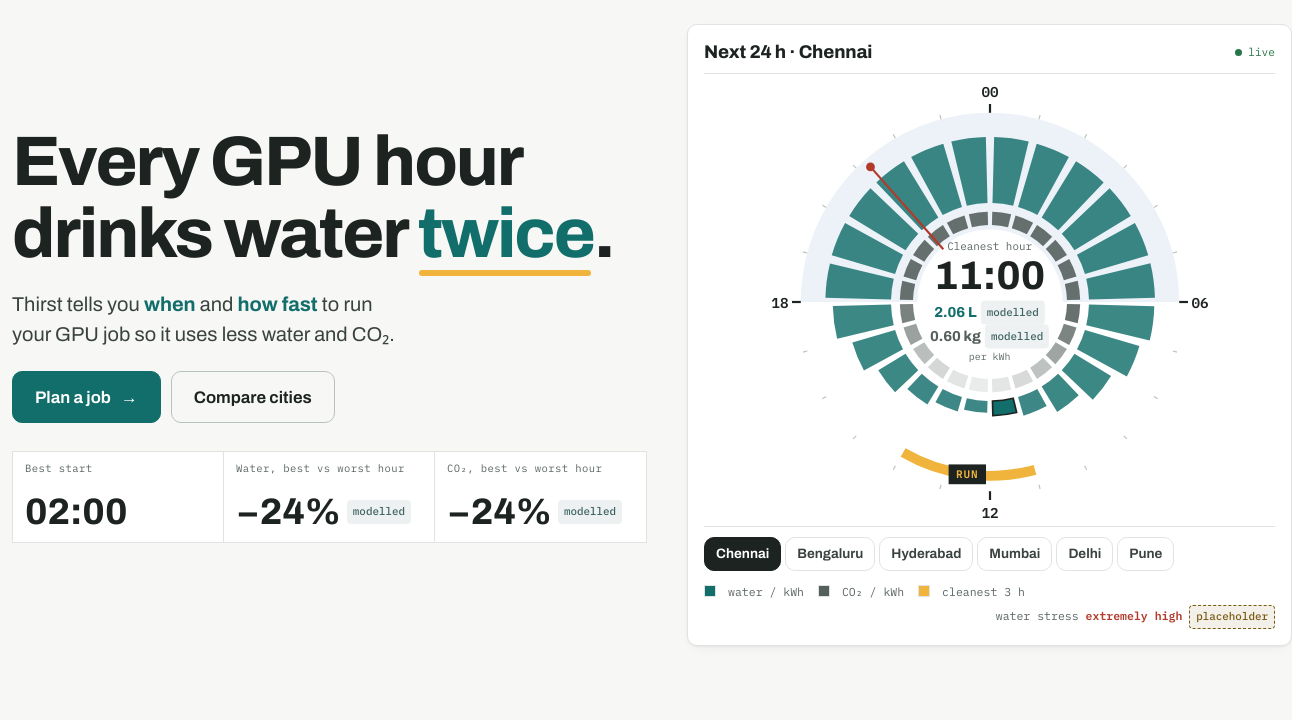
LandingPage › switches city and remembers the answer
The width and height of the screenshot is (1292, 720).
Step 1. Click the button "Mumbai" → (1015, 554), box [977, 537, 1052, 572]
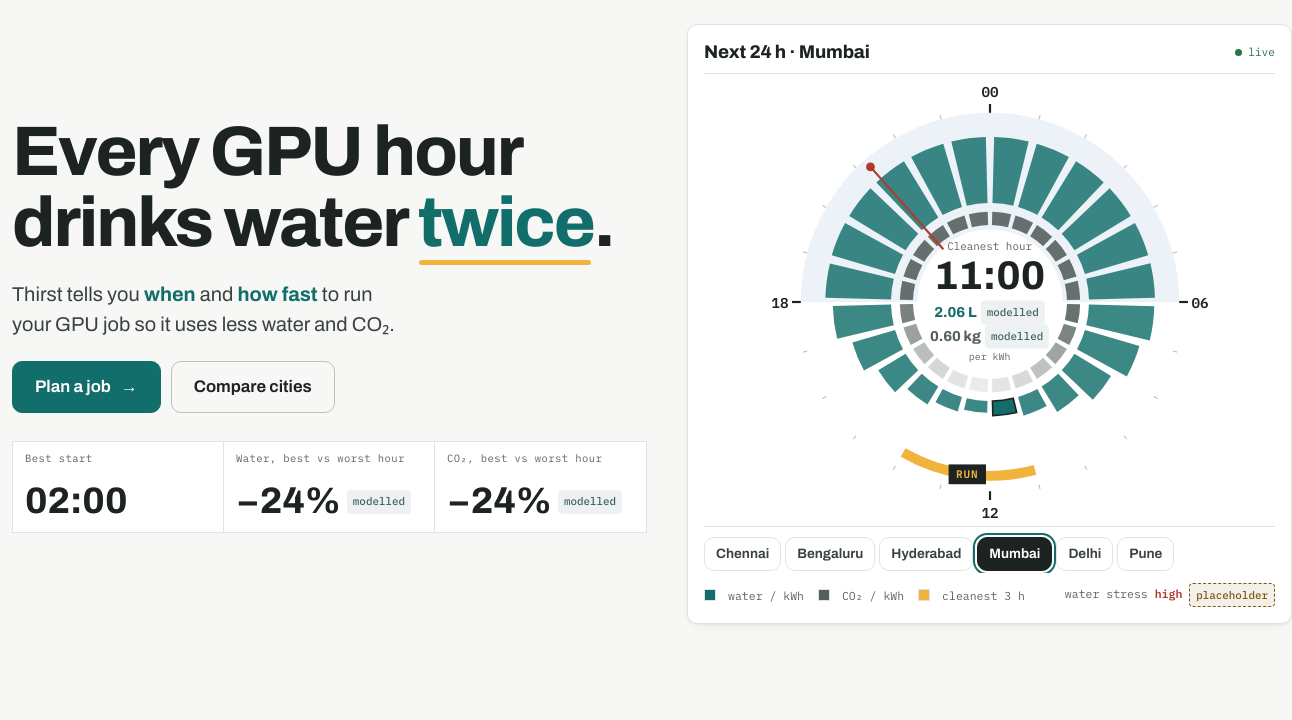
Result: the heading "Next 24 h · Mumbai" is shown at [704, 41, 870, 63]
Step 2. Click the button "Chennai" → (743, 554), box [704, 537, 781, 572]
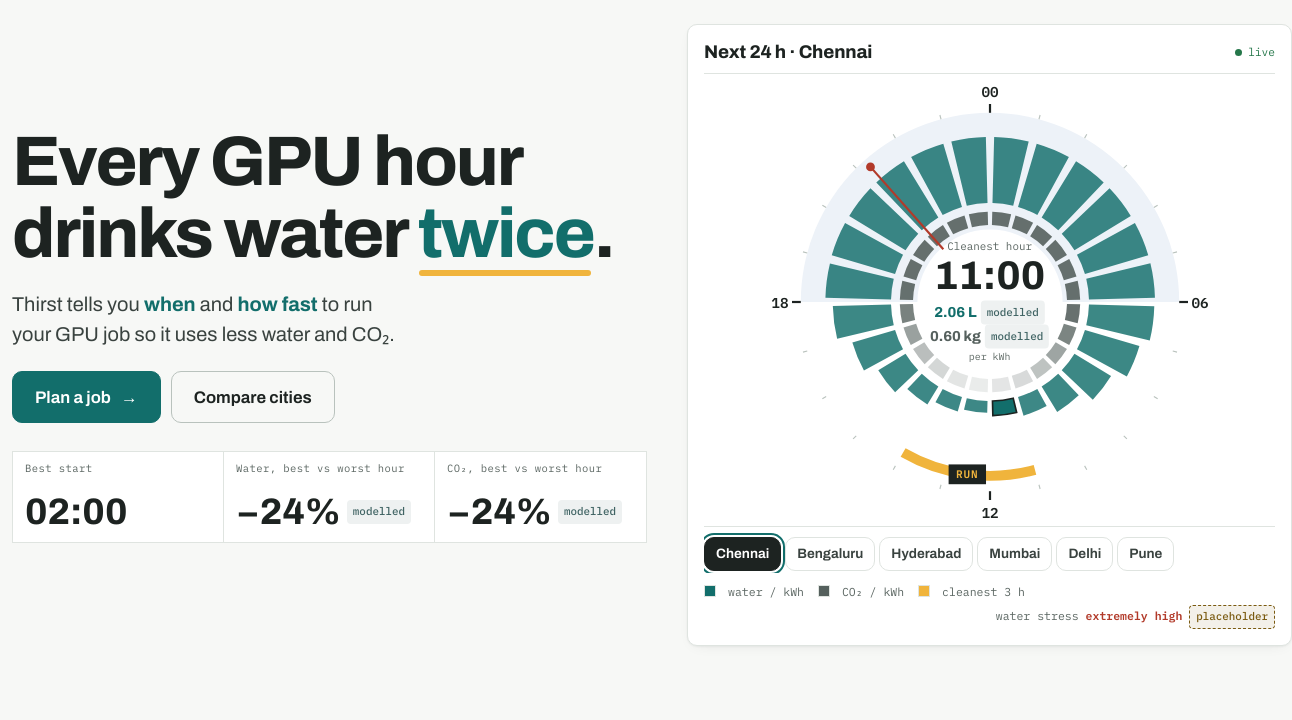
Result: the heading "Next 24 h · Chennai" is shown at [704, 41, 872, 63]
